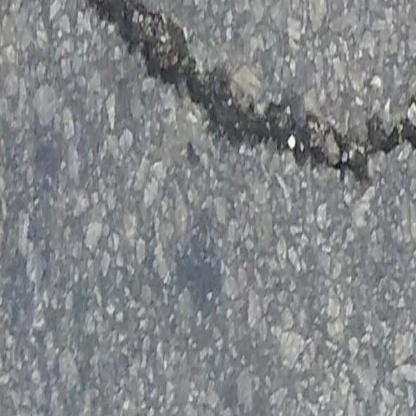Cracks: (63, 0, 416, 180)
